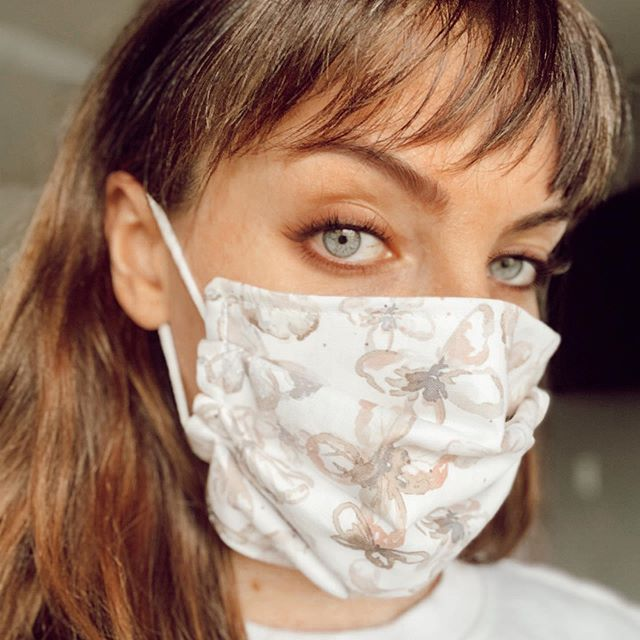homemade: (132, 277, 561, 602)
